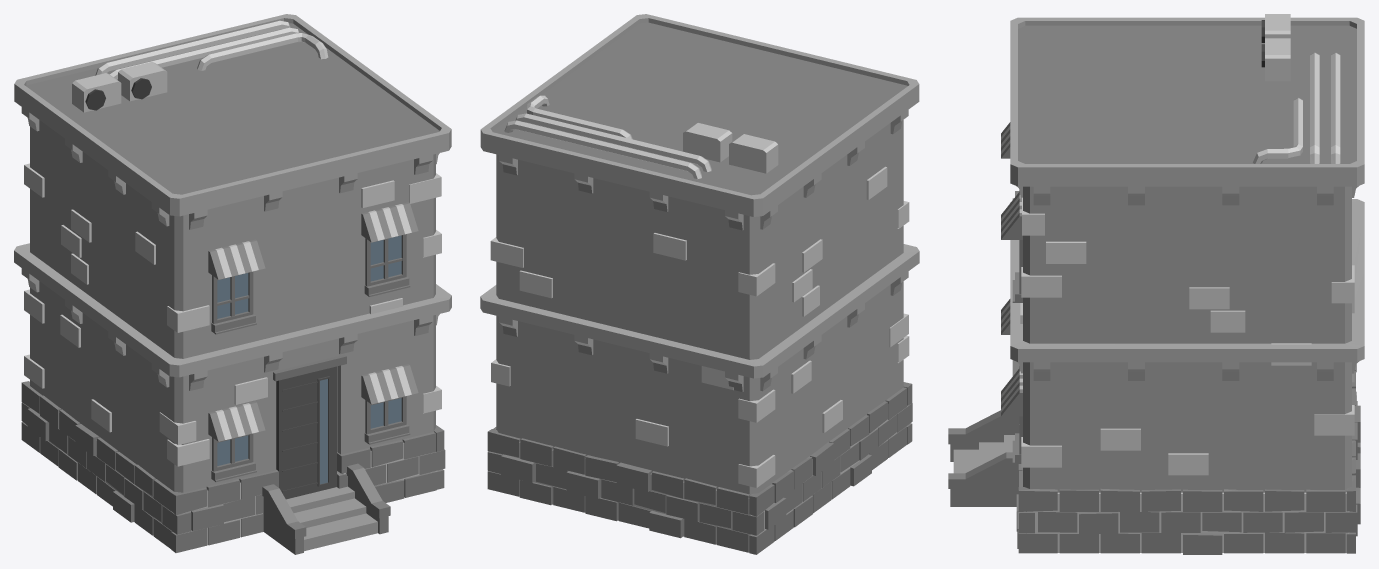
Rendered from qtb_2story.fbx.
3 renders of one model, left to right at view 1: azimuth 30°, elevation 25°; view 2: azimuth 150°, elevation 25°; view 3: azimuth 270°, elevation 25°, orthographic. The views are drawn at different scales.
Parts seen in each view (by area): view 1: qtb_2story_LOD0; view 2: qtb_2story_LOD0; view 3: qtb_2story_LOD0.
Part boxes in pixels (bbox=[...]): qtb_2story_LOD0: bbox=[14, 14, 451, 554]; qtb_2story_LOD0: bbox=[480, 14, 919, 554]; qtb_2story_LOD0: bbox=[948, 14, 1364, 554].
Size of what is drawn, in the model's own units: 5.83 by 7.41 by 6.84.
Materials: 1 (1 with a texture image).
